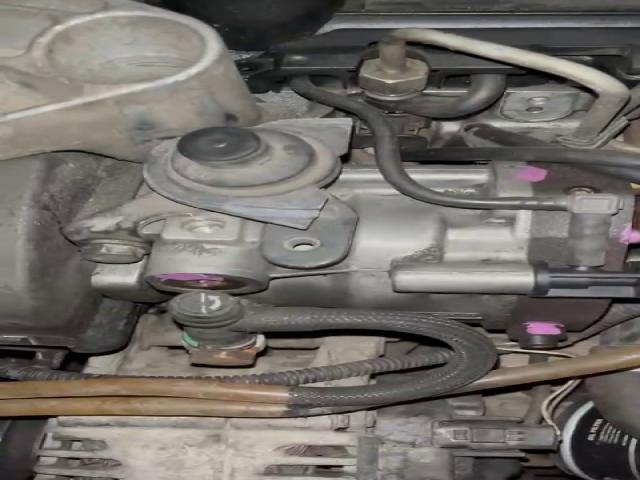alternator: (31, 393, 563, 480)
high_pressure_pump: (135, 156, 640, 349)
